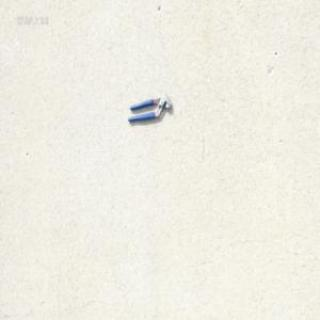Pliertrack_idkeyframe: (126, 92, 171, 122)
